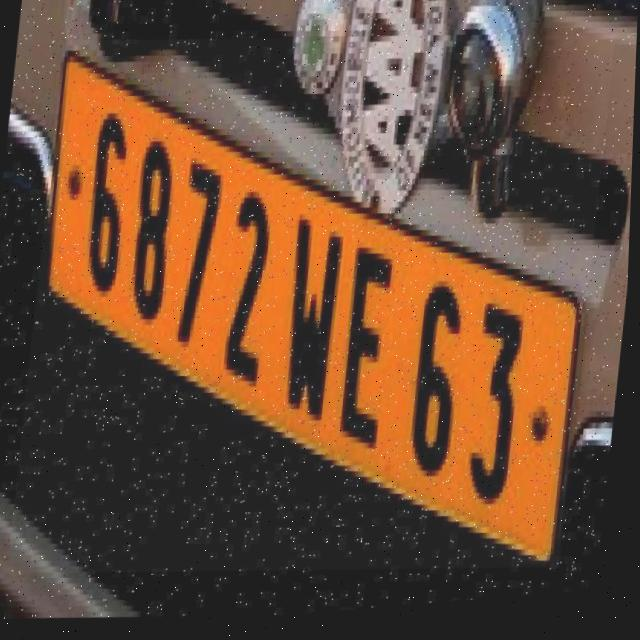LicensePlate: (10, 6, 617, 612)
